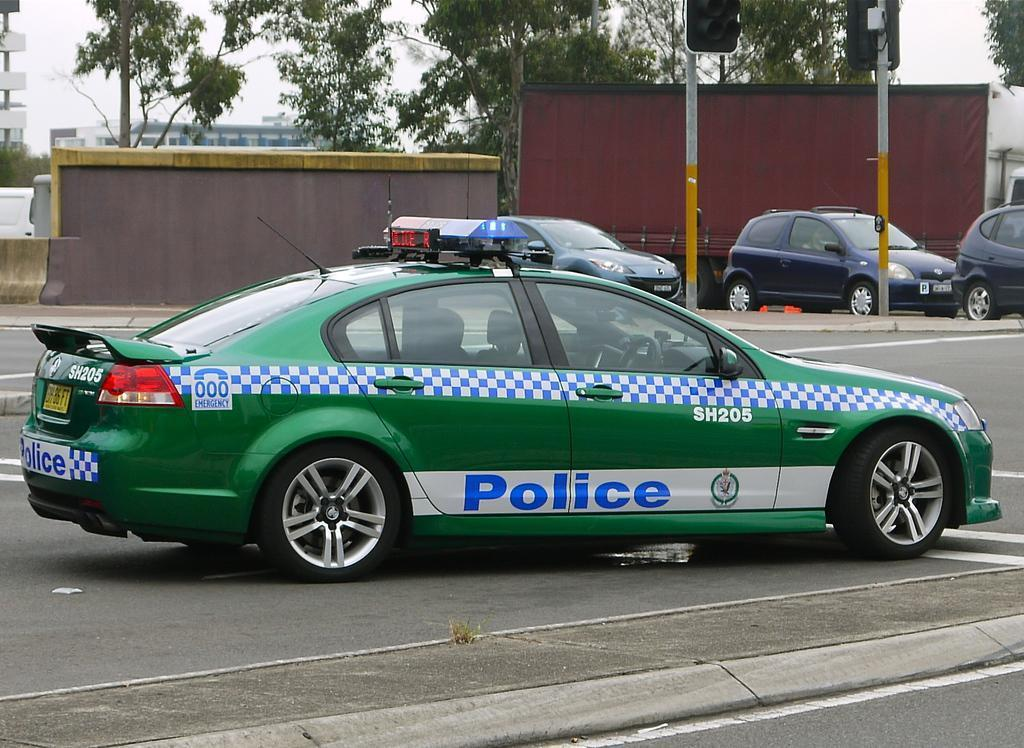bienso: (42, 380, 73, 418), (653, 286, 672, 292)
